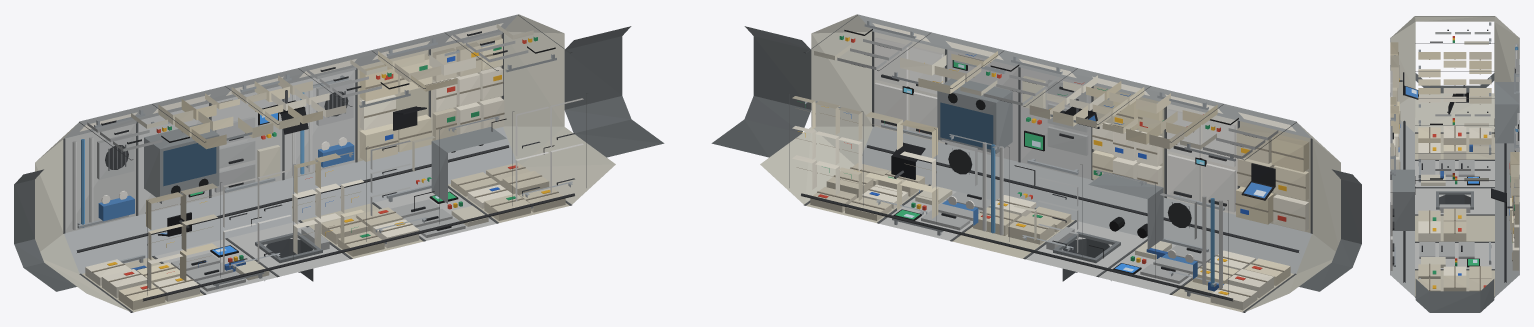
The model's file is m-destiny.glb.
3 views of the same model, side by side, from view 1: azimuth 30°, elevation 25°; view 2: azimuth 150°, elevation 25°; view 3: azimuth 270°, elevation 25° (orthographic). The views are drawn at different scales.
Visible parts, largest first — view 1: destiny; view 2: destiny; view 3: destiny.
Part boxes in pixels (left/top/right/bottom): destiny: left=14, top=14, right=664, bottom=312; destiny: left=711, top=14, right=1361, bottom=312; destiny: left=1390, top=16, right=1519, bottom=312.
Size of the model in its own units: 8.73 by 2.55 by 2.1.
